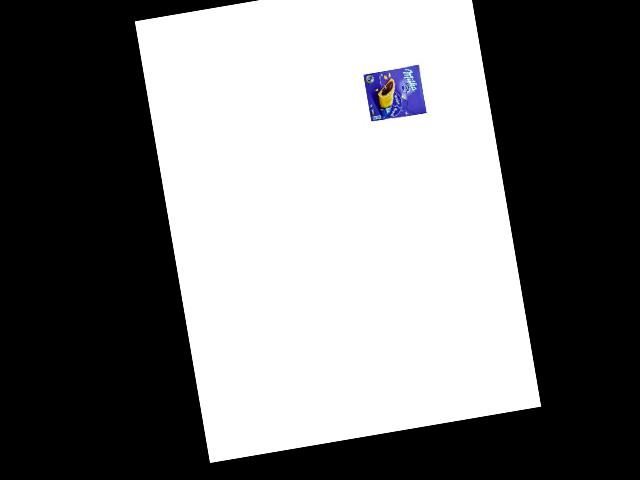chocolate: (358, 61, 430, 125)
